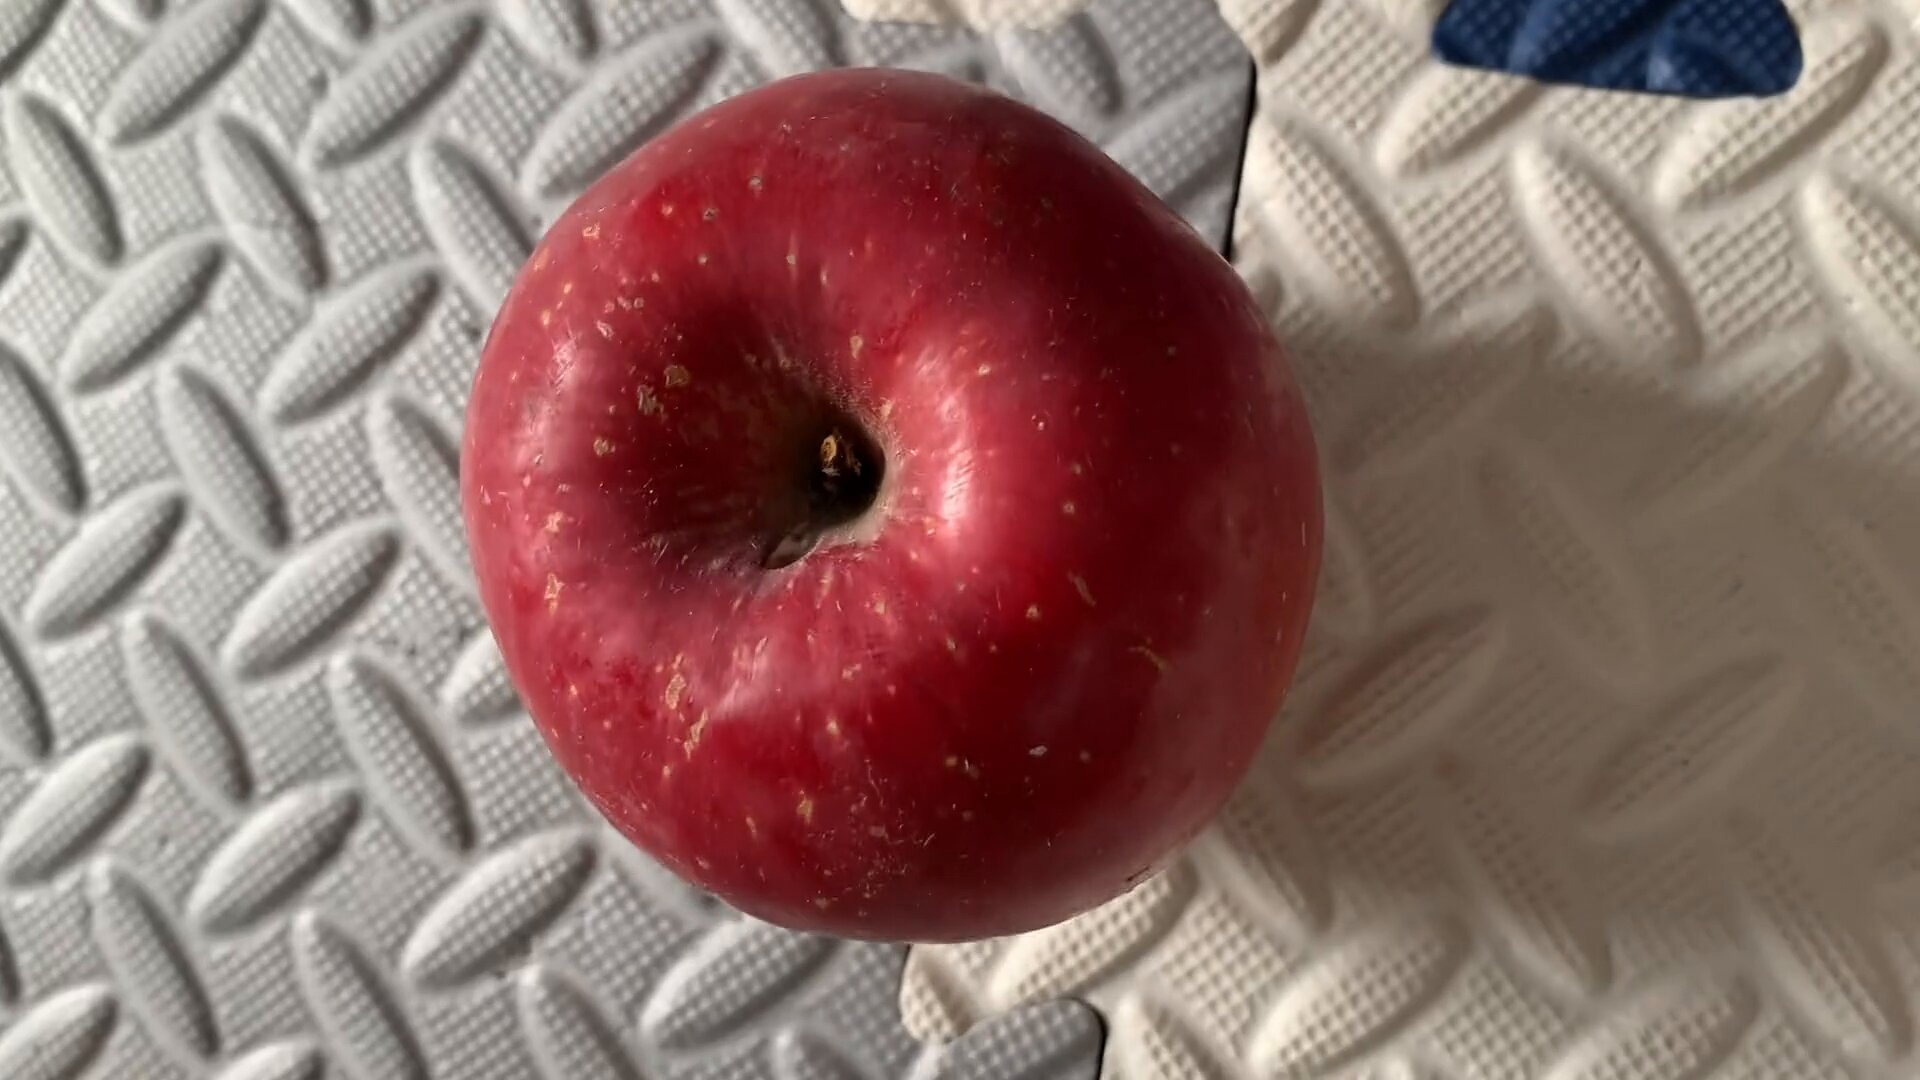不可回收水果: (442, 46, 1333, 963)
